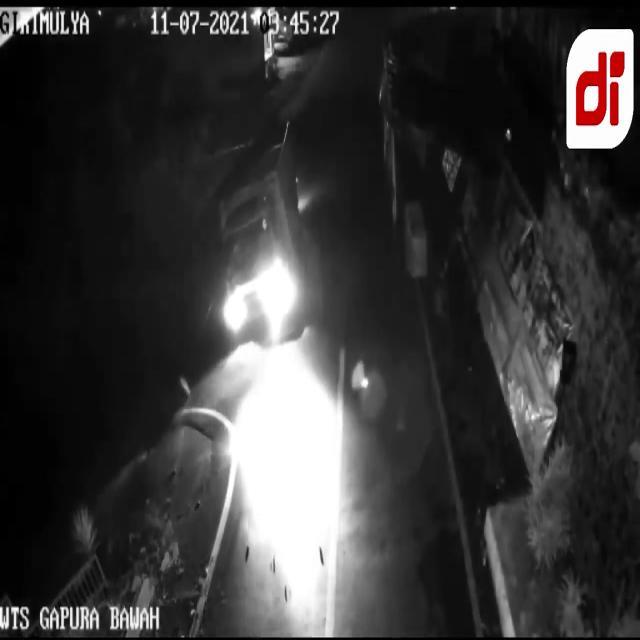single accident: (181, 139, 347, 356)
